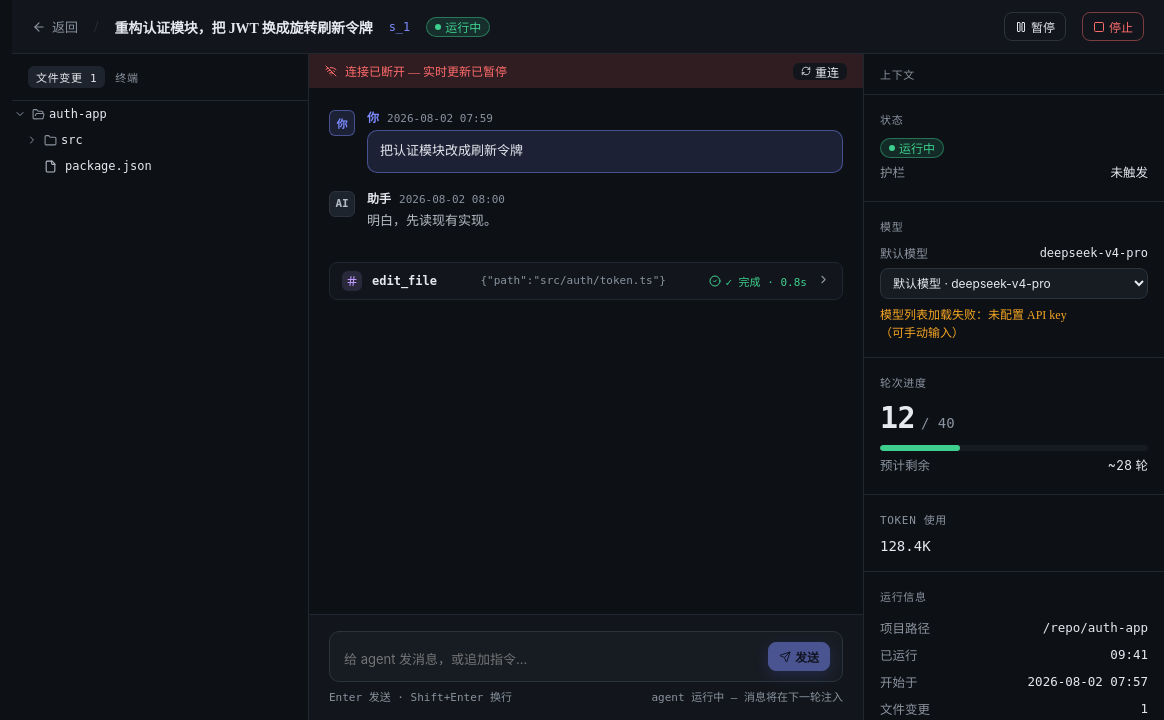
Test case: SessionDetail › shows a content-preview error when the file fetch fails (1.5)
What coordinates should you click on to do the following:
click the button named "展开 src"
I would click on:
 (32, 140)
Its box is [24,130,40,150].
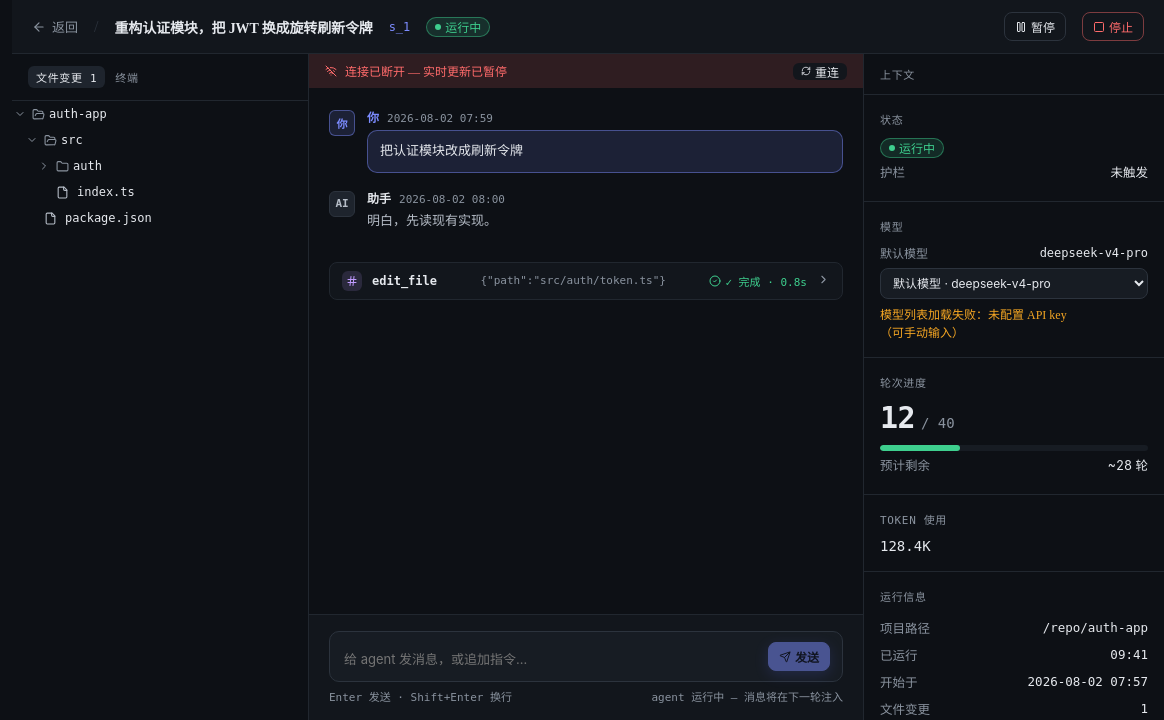
What coordinates should you click on to do the following:
click the button named "展开 auth"
I would click on:
 (44, 166)
Its box is [36,156,52,176].
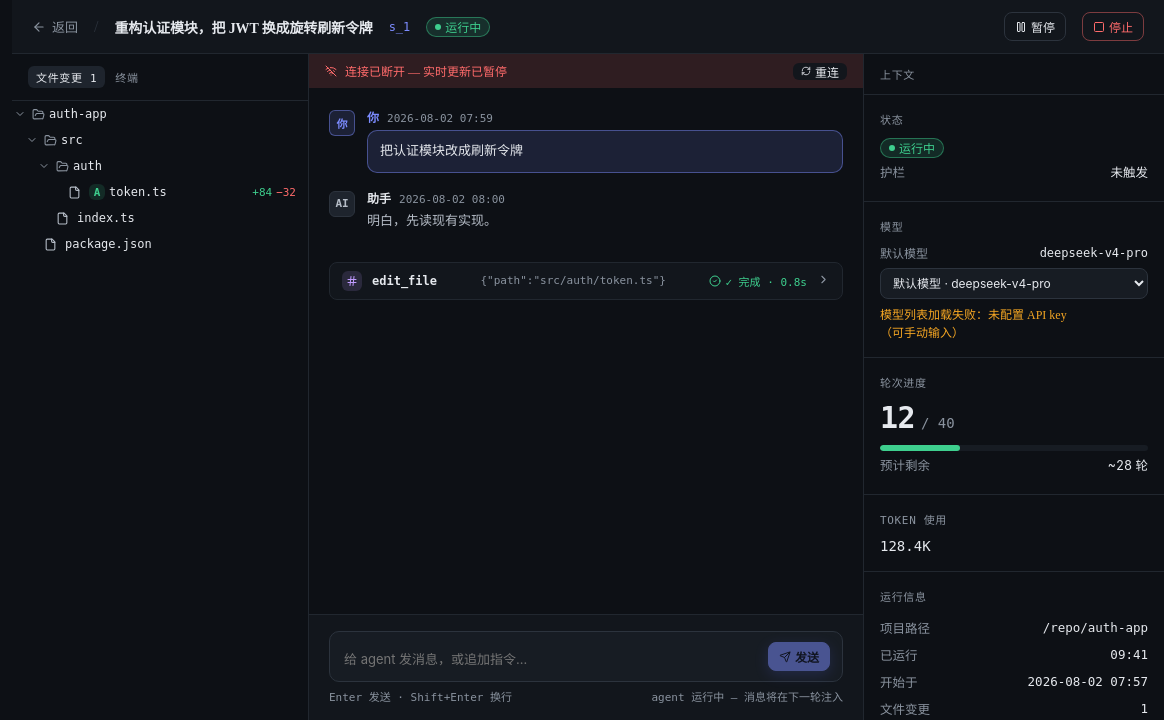
What coordinates should you click on to do the following:
click the text "token.ts"
I would click on:
 (138, 192)
Its box is [109,185,167,199].
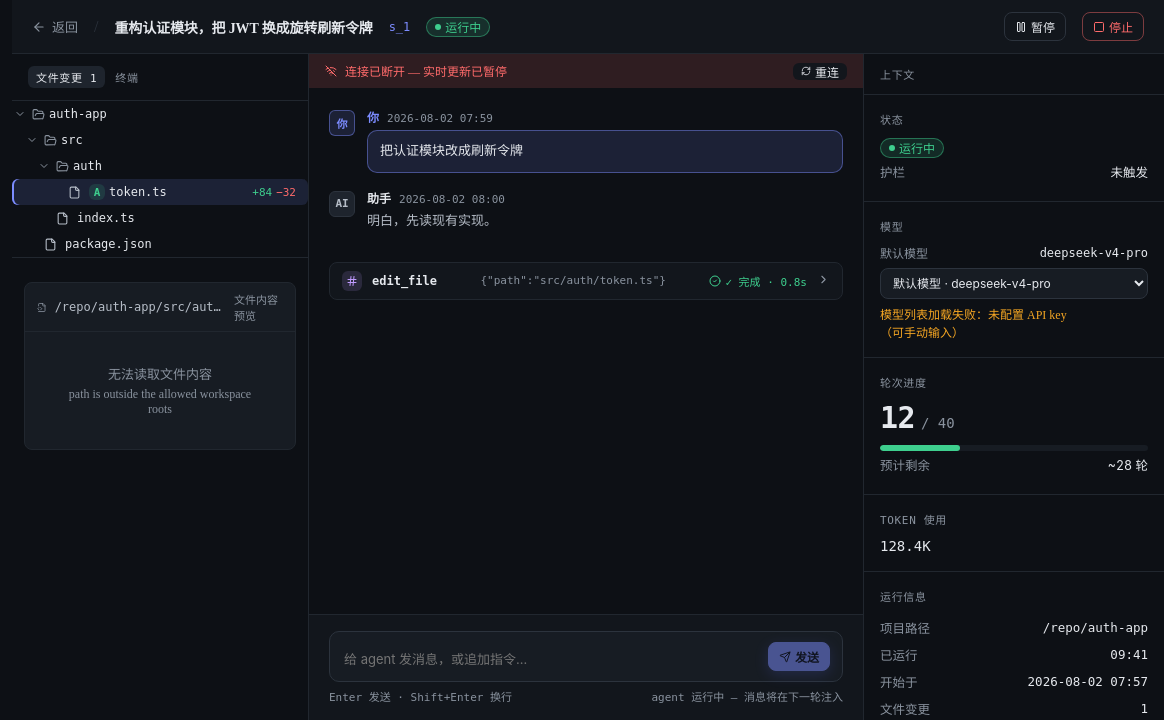
Now the text "无法读取文件内容" is shown, box [108,364,212,383]
Now the text "path is outside the allowed workspace roots" is shown, box [57,387,263,417]
